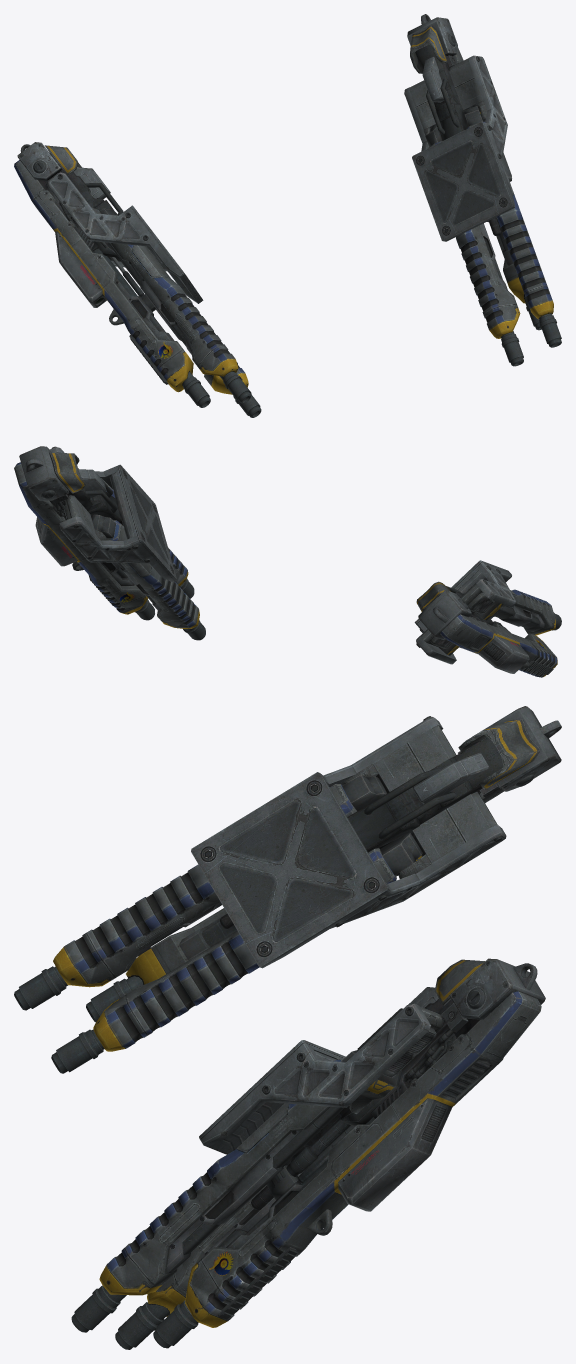
Rendered from NC_MAX_Weapon.glb.
3 renders of one model, top to bottom at view 1: azimuth 30°, elevation 25°; view 2: azimuth 150°, elevation 25°; view 3: azimuth 270°, elevation 25°, orthographic. The views are drawn at different scales.
Visible parts, largest first — view 1: Weapon_NC_MaxAntiInfantryLeft001, Weapon_NC_MaxAntiInfantryLeft001.001; view 2: Weapon_NC_MaxAntiInfantryLeft001, Weapon_NC_MaxAntiInfantryLeft001.001; view 3: Weapon_NC_MaxAntiInfantryLeft001.001, Weapon_NC_MaxAntiInfantryLeft001.
Boxes of the visible parts, left/top/right/bottom form: Weapon_NC_MaxAntiInfantryLeft001: left=404, top=14, right=561, bottom=366; Weapon_NC_MaxAntiInfantryLeft001.001: left=14, top=142, right=261, bottom=417; Weapon_NC_MaxAntiInfantryLeft001: left=14, top=446, right=205, bottom=640; Weapon_NC_MaxAntiInfantryLeft001.001: left=414, top=560, right=561, bottom=677; Weapon_NC_MaxAntiInfantryLeft001.001: left=14, top=706, right=561, bottom=1073; Weapon_NC_MaxAntiInfantryLeft001: left=71, top=958, right=545, bottom=1349.
Bounding box in the file's own units: 1.14 × 0.6313 × 0.7521.
Materials: 2 (2 with a texture image).
